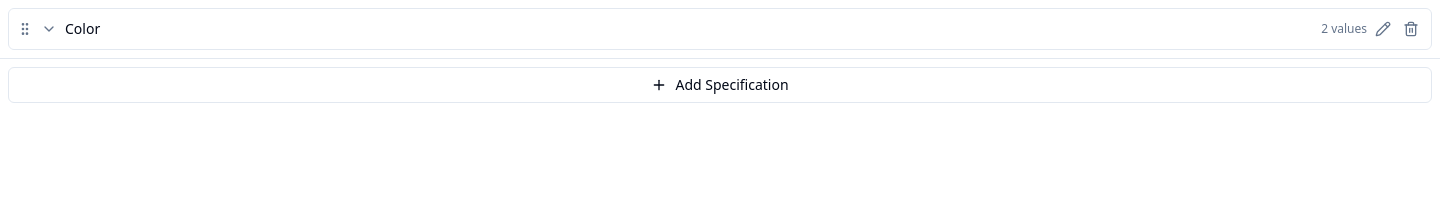
SpecificationList › expands specification to show values with skuFragments
# Click on the specification to expand
Click the text "Color": (83, 28) [65,19,100,38]
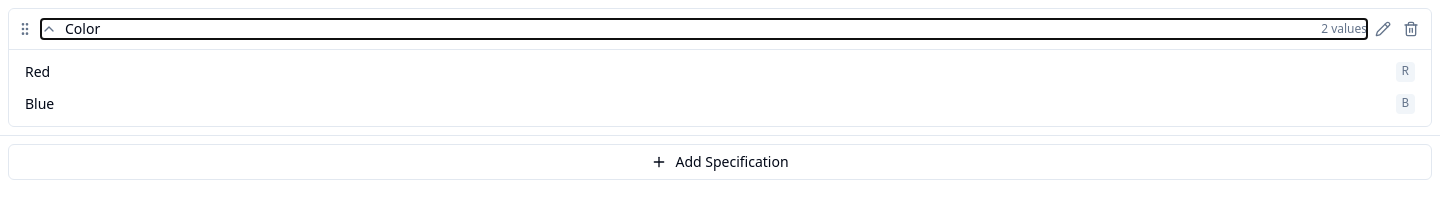
expect the text "Red" is shown: met, box [25,62,50,81]
expect the text "R" is shown: met, box [1396,62,1415,82]
expect the text "Blue" is shown: met, box [25,94,54,113]
